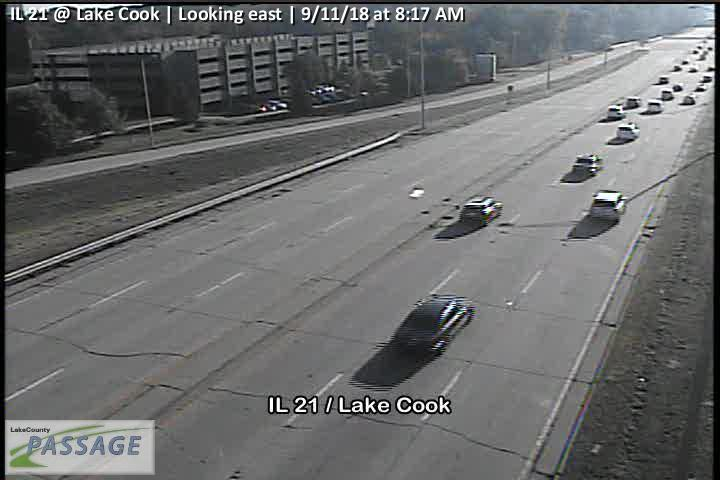Sedan: (392, 294, 474, 360), (457, 196, 503, 227), (589, 189, 626, 220), (572, 152, 604, 176), (618, 121, 642, 142), (607, 102, 625, 119), (646, 99, 664, 113)
